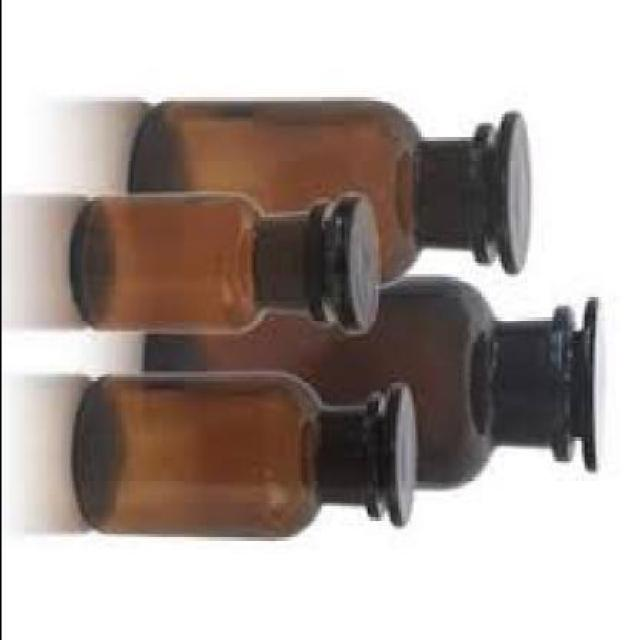glass: (143, 276, 603, 492), (135, 95, 532, 283), (69, 363, 423, 535), (72, 189, 383, 329)
